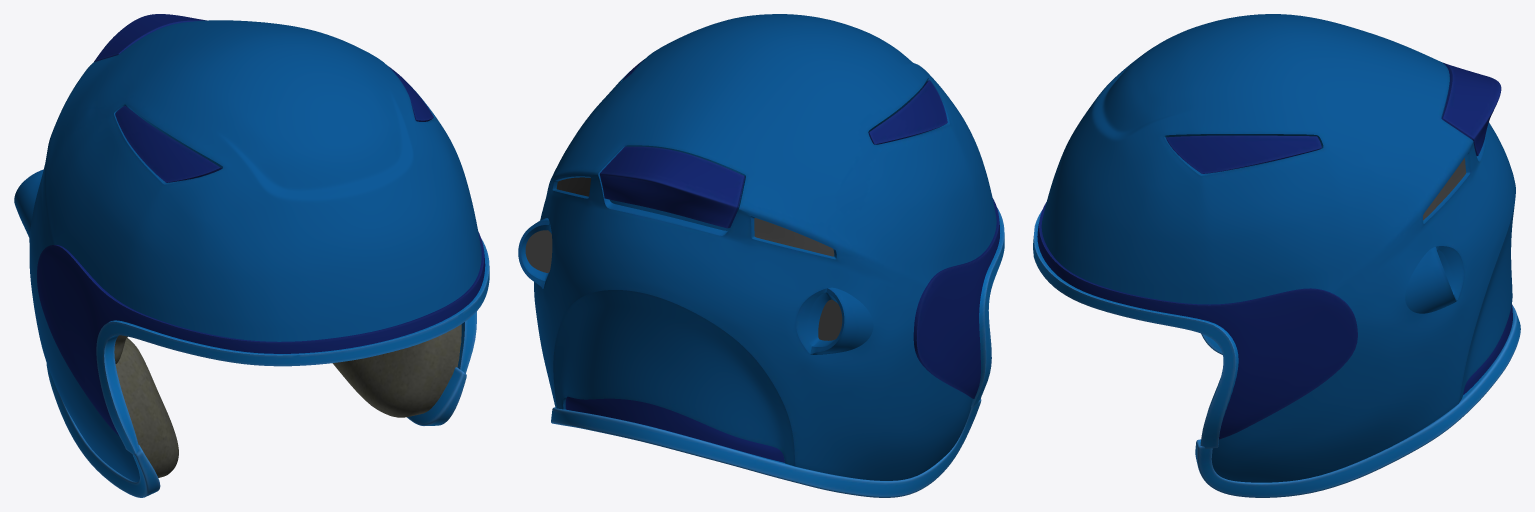
File: helmet4.glb
3 views of the same model, side by side, from view 1: azimuth 30°, elevation 25°; view 2: azimuth 150°, elevation 25°; view 3: azimuth 270°, elevation 25° (orthographic). The views are drawn at different scales.
Parts seen in each view (by area): view 1: motorcycle_helmet_f3; view 2: motorcycle_helmet_f3; view 3: motorcycle_helmet_f3.
Boxes of the visible parts, x1,y1,x2,y2 form: motorcycle_helmet_f3: [14, 14, 489, 497]; motorcycle_helmet_f3: [518, 14, 1004, 497]; motorcycle_helmet_f3: [1033, 14, 1520, 497].
Size of the model in its own units: 20.15 by 20.79 by 23.33.
Materials: 1 (1 with a texture image).
